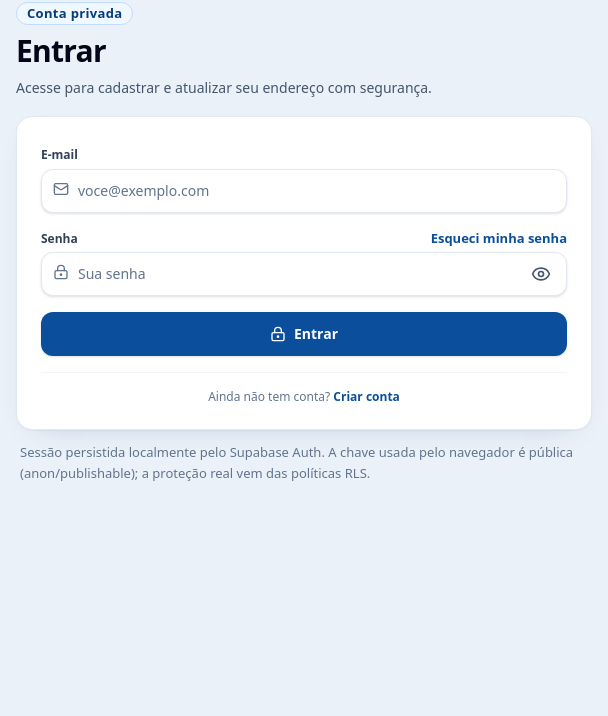
Test case: LoginPage › permite alternar para o cadastro de morador
The width and height of the screenshot is (608, 716).
Click the button "Criar conta" at (367, 397), box [333,389,400,405]
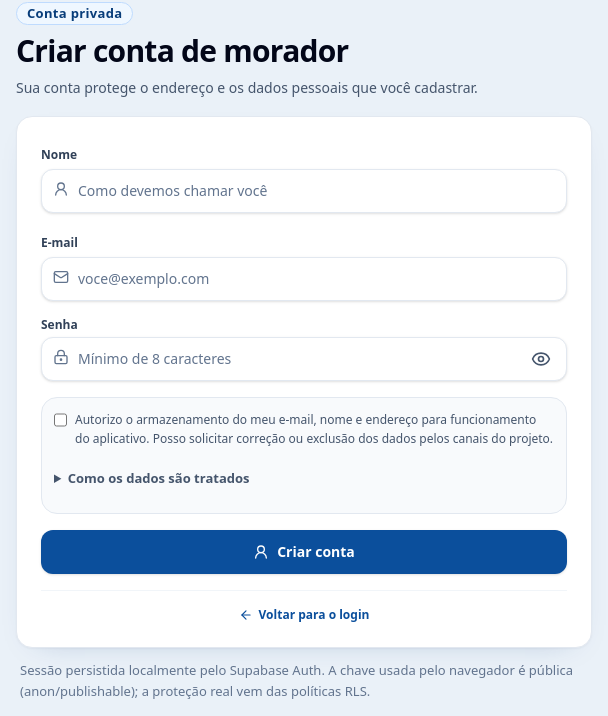
expect the heading "Criar conta de morador" is shown: met, box [16,30,348,71]
expect the field labelled "Nome" is shown: met, box [41,169,567,213]
expect the button "Criar conta" is shown: met, box [41,530,567,574]
